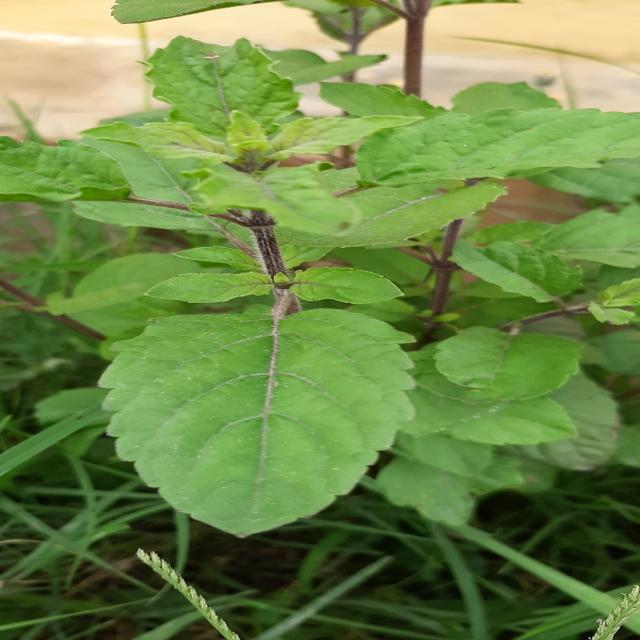tulsi: (98, 309, 415, 535), (100, 39, 420, 239)
